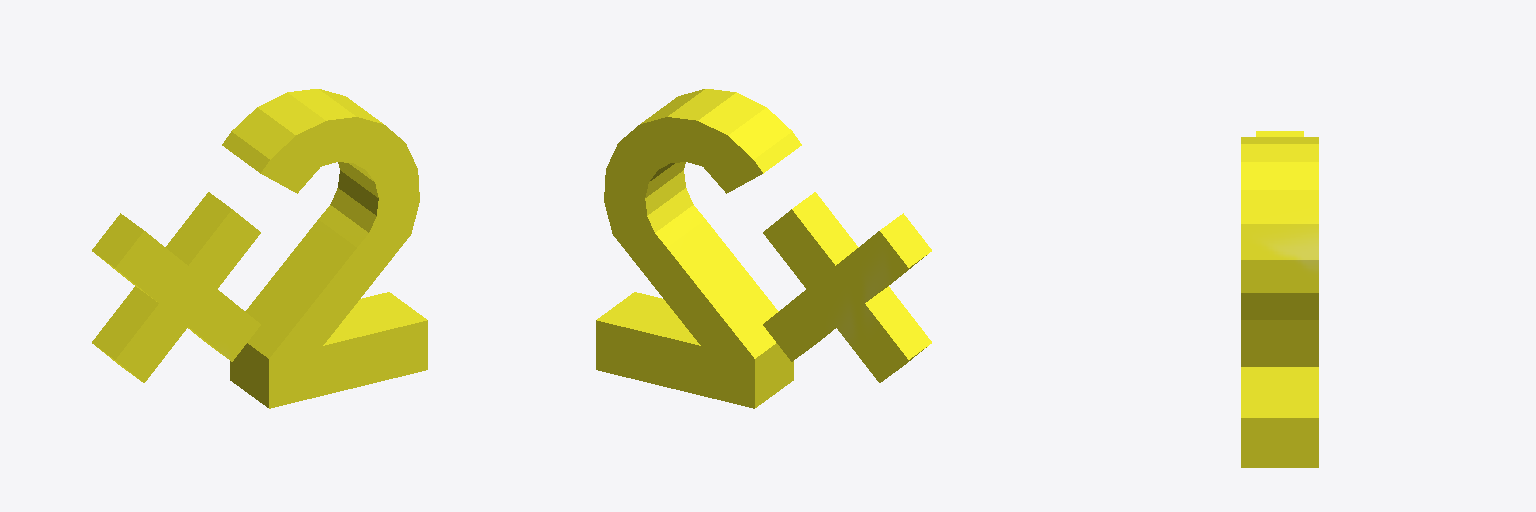
3 renders of one model, left to right at view 1: azimuth 30°, elevation 25°; view 2: azimuth 150°, elevation 25°; view 3: azimuth 270°, elevation 25°, orthographic.
Parts seen in each view (by area): view 1: Cube.001; view 2: Cube.001; view 3: Cube.001.
Part boxes in pixels (left/top/right/bottom): Cube.001: left=92, top=89, right=427, bottom=408; Cube.001: left=596, top=89, right=931, bottom=408; Cube.001: left=1241, top=131, right=1318, bottom=467.
Size of the model in its own units: 0.9077 by 0.7788 by 0.2.
Materials: 1 (1 with a texture image).